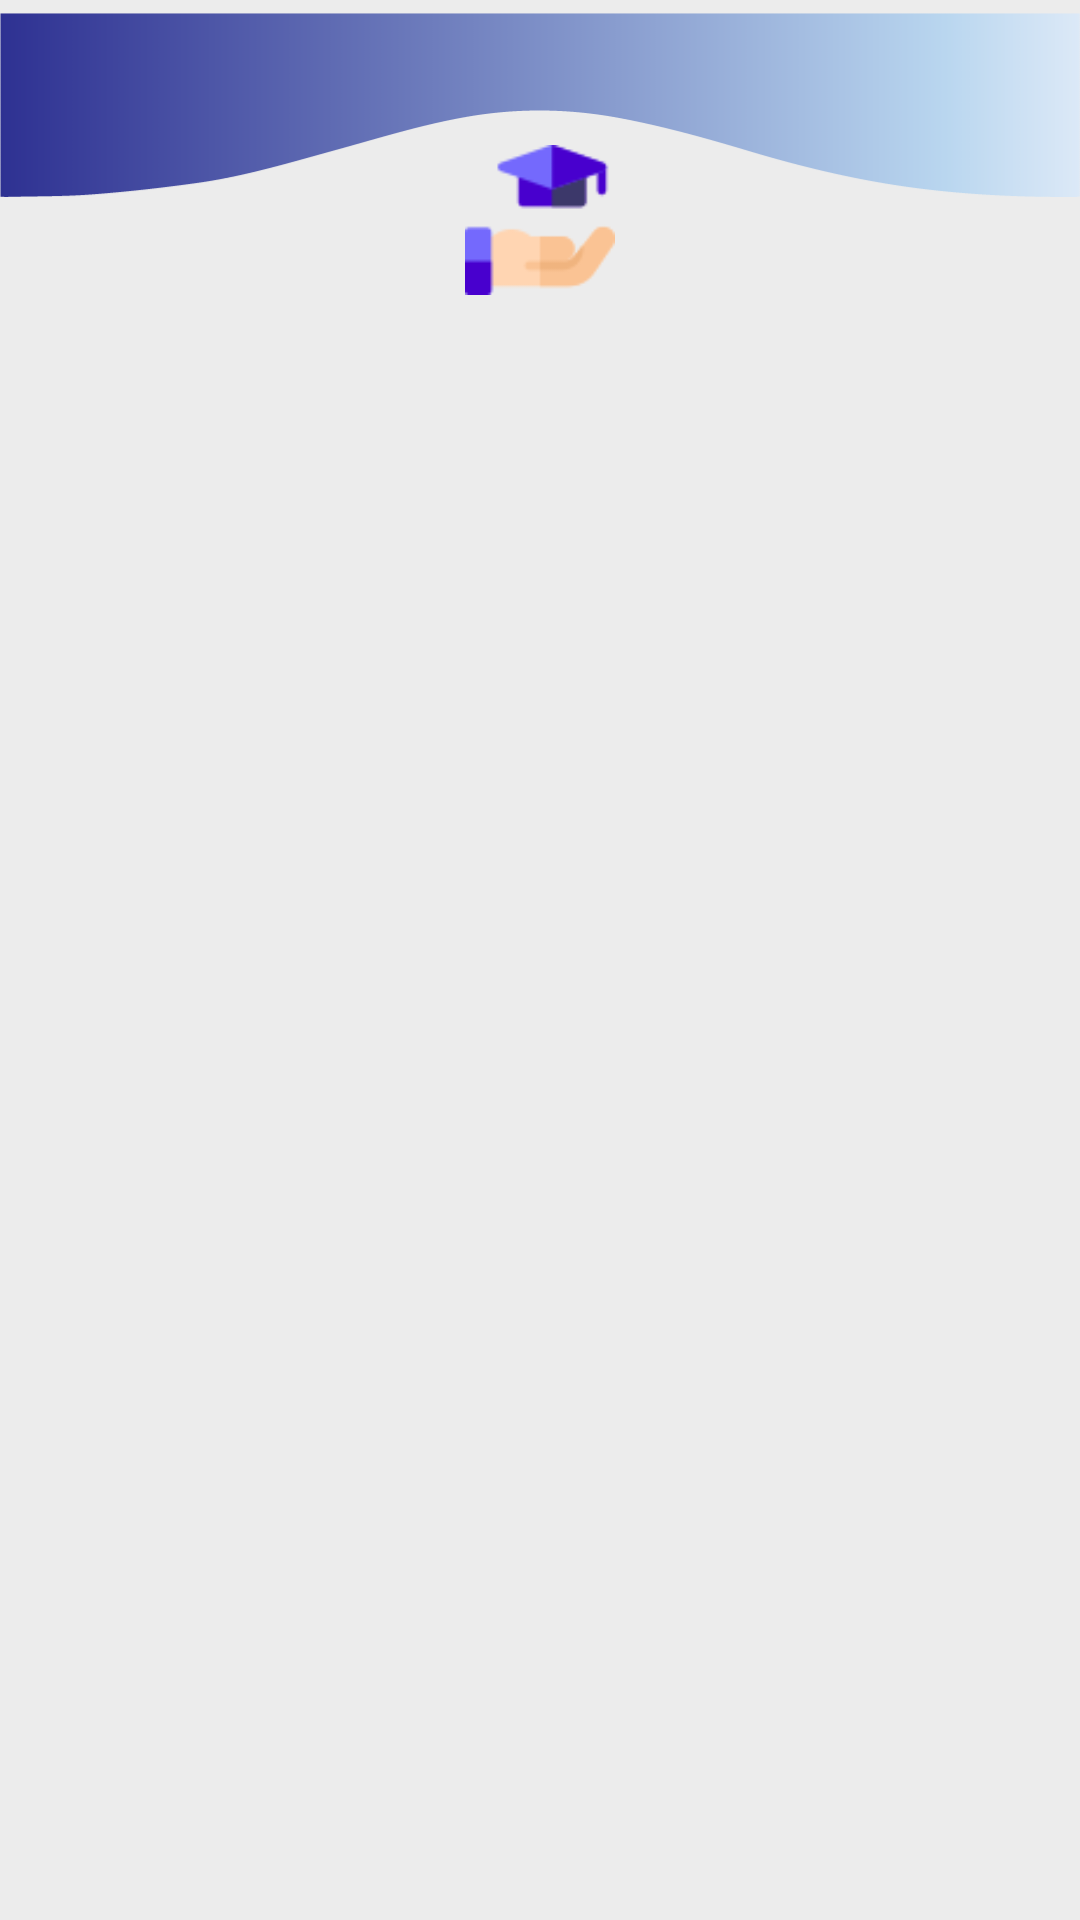

Named icons in this screenshot (1080px x 1920px) and their centers, point (x, y):
studyvisa: point (540, 220)
